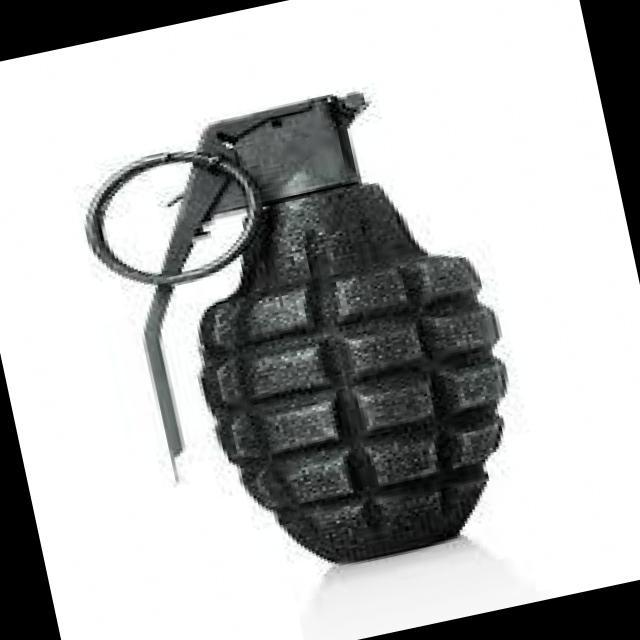grenade: (61, 58, 554, 610)
